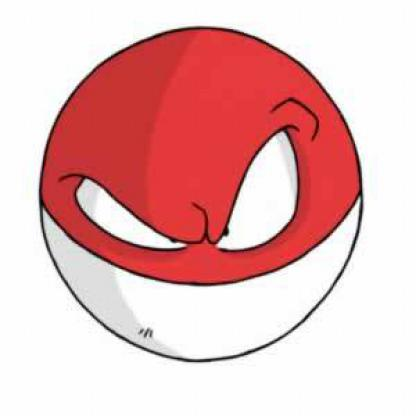Voltorb: (52, 25, 378, 363)
